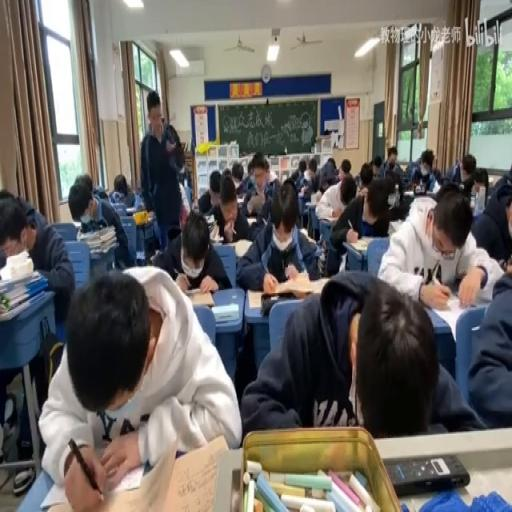calculator: (424, 290, 482, 340), (266, 272, 328, 297), (212, 301, 238, 323), (185, 288, 213, 306), (234, 236, 252, 258), (246, 287, 264, 309), (203, 214, 217, 238), (347, 238, 370, 252), (388, 219, 404, 235), (110, 200, 126, 214), (318, 212, 340, 222), (313, 244, 325, 258), (298, 226, 310, 239), (246, 215, 258, 226), (209, 234, 221, 244), (305, 199, 317, 208), (125, 205, 135, 215), (235, 193, 246, 202), (146, 209, 154, 221), (404, 189, 414, 198)
paper: (41, 260, 238, 504), (238, 266, 480, 432), (375, 184, 500, 307), (1, 188, 75, 330), (234, 178, 322, 288), (465, 258, 512, 425), (152, 205, 230, 289), (68, 174, 130, 273), (325, 176, 379, 276), (126, 174, 160, 258), (163, 122, 188, 196), (404, 146, 439, 192), (382, 175, 411, 227), (194, 169, 222, 219), (448, 151, 478, 192), (250, 155, 280, 193), (486, 162, 512, 201), (314, 156, 340, 194), (499, 192, 512, 266), (352, 161, 374, 202), (471, 168, 490, 206), (294, 156, 312, 194), (178, 179, 192, 225), (434, 179, 460, 199), (230, 160, 244, 190), (338, 158, 351, 186), (384, 145, 398, 171), (136, 190, 150, 212), (114, 174, 127, 196), (92, 186, 108, 200), (372, 155, 382, 176), (0, 188, 13, 200), (246, 162, 253, 176), (321, 179, 329, 189), (309, 165, 316, 176), (316, 184, 322, 194)
person: (384, 454, 468, 496), (260, 290, 301, 316), (228, 468, 241, 510)
